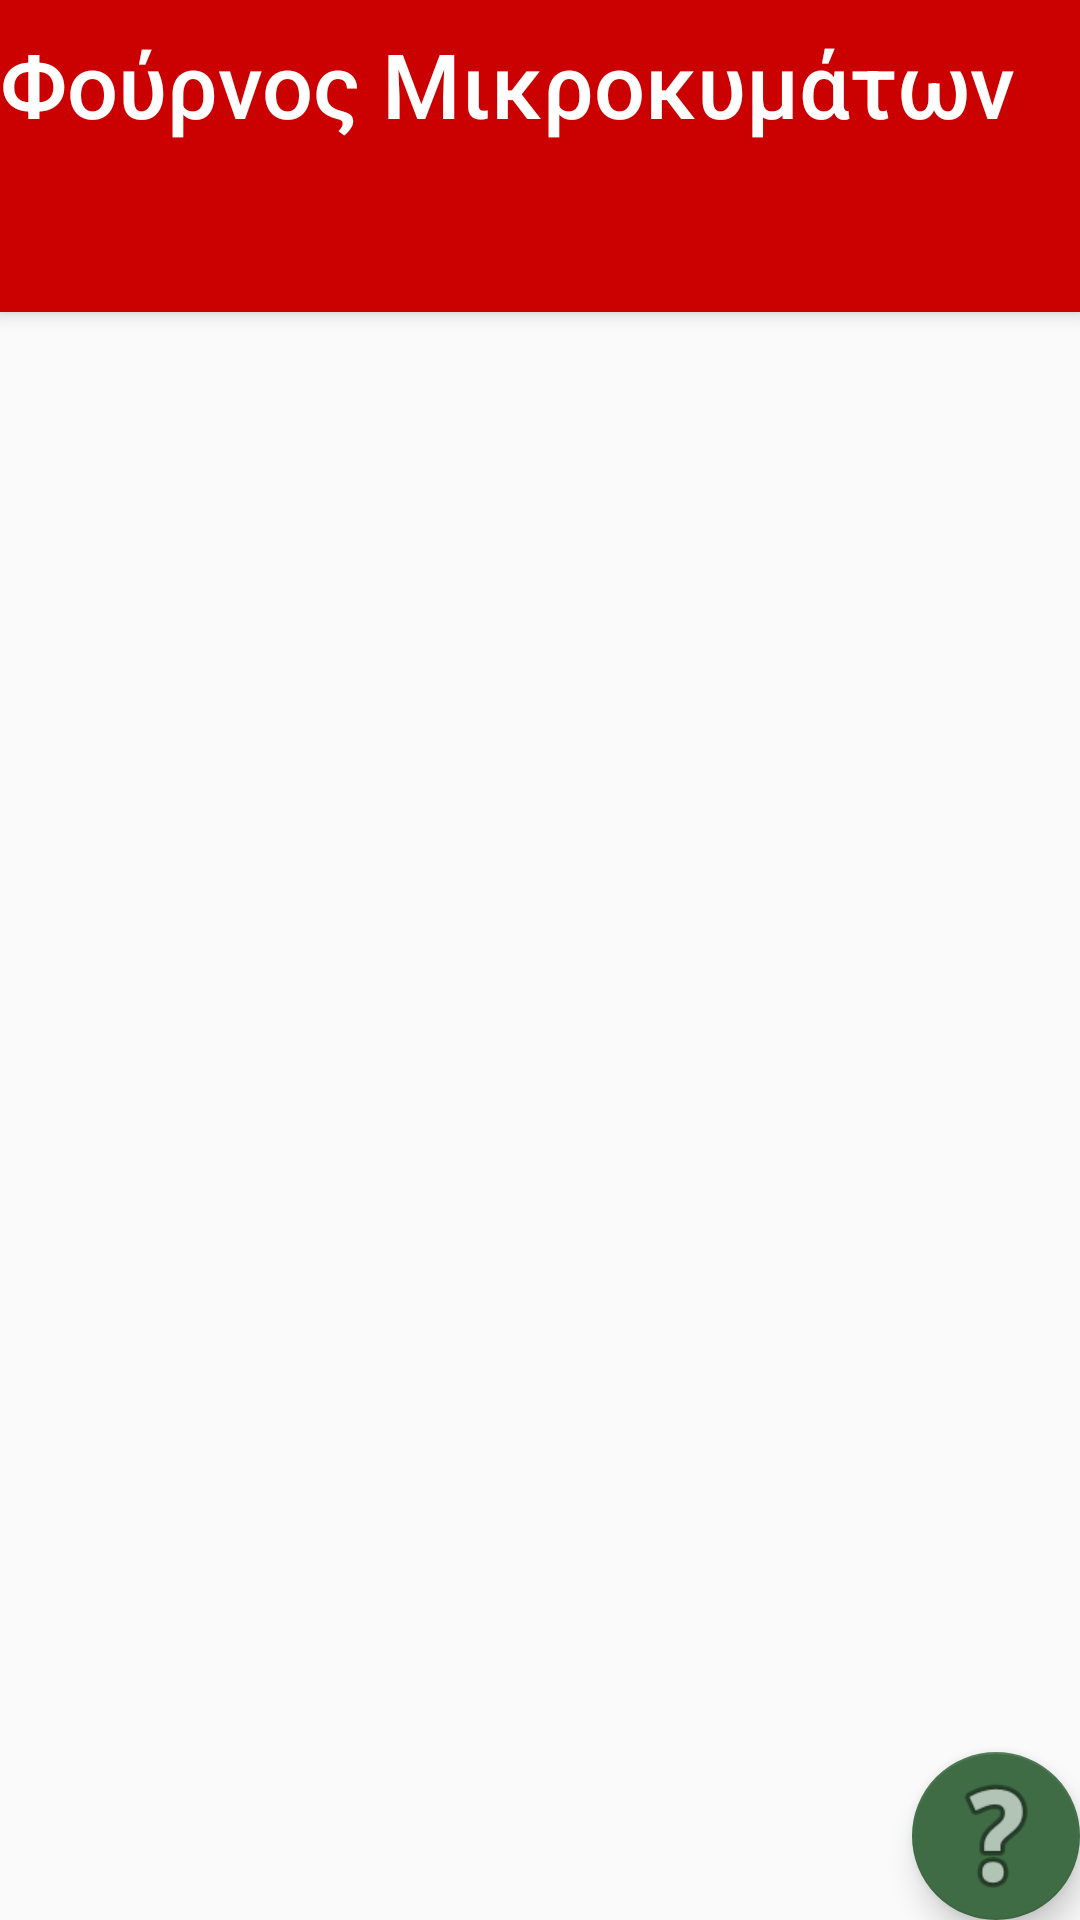

Icon bounding boxes for this 1080w x 1920h phone screenshot, format (x1, y1, x2, y2):
help: (912, 1752, 1080, 1920)
